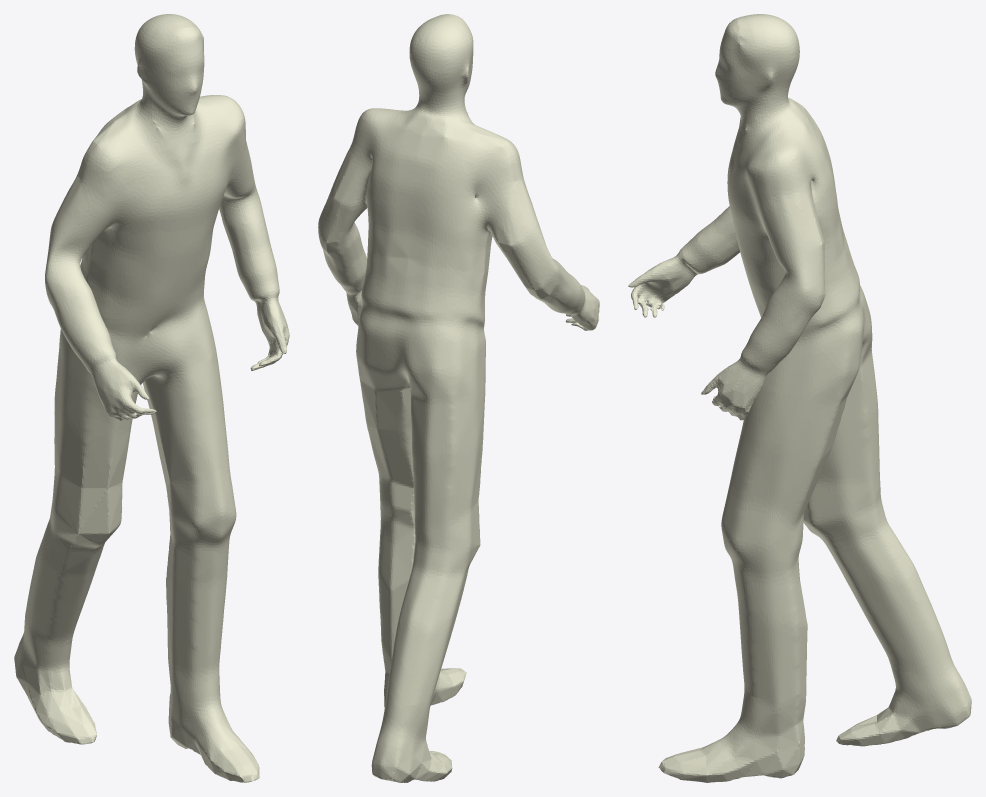
File: village people_man_01.fbx
3 views of the same model, side by side, from view 1: azimuth 30°, elevation 25°; view 2: azimuth 150°, elevation 25°; view 3: azimuth 270°, elevation 25° (orthographic). The views are drawn at different scales.
Parts seen in each view (by area): view 1: man_maya1:Group57500; view 2: man_maya1:Group57500; view 3: man_maya1:Group57500.
Boxes of the visible parts, x1,y1,x2,y2 form: man_maya1:Group57500: (14,14,289,782); man_maya1:Group57500: (318,14,599,782); man_maya1:Group57500: (628,14,971,782).
Bounding box in the file's own units: 1.5 × 4.59 × 1.91.
